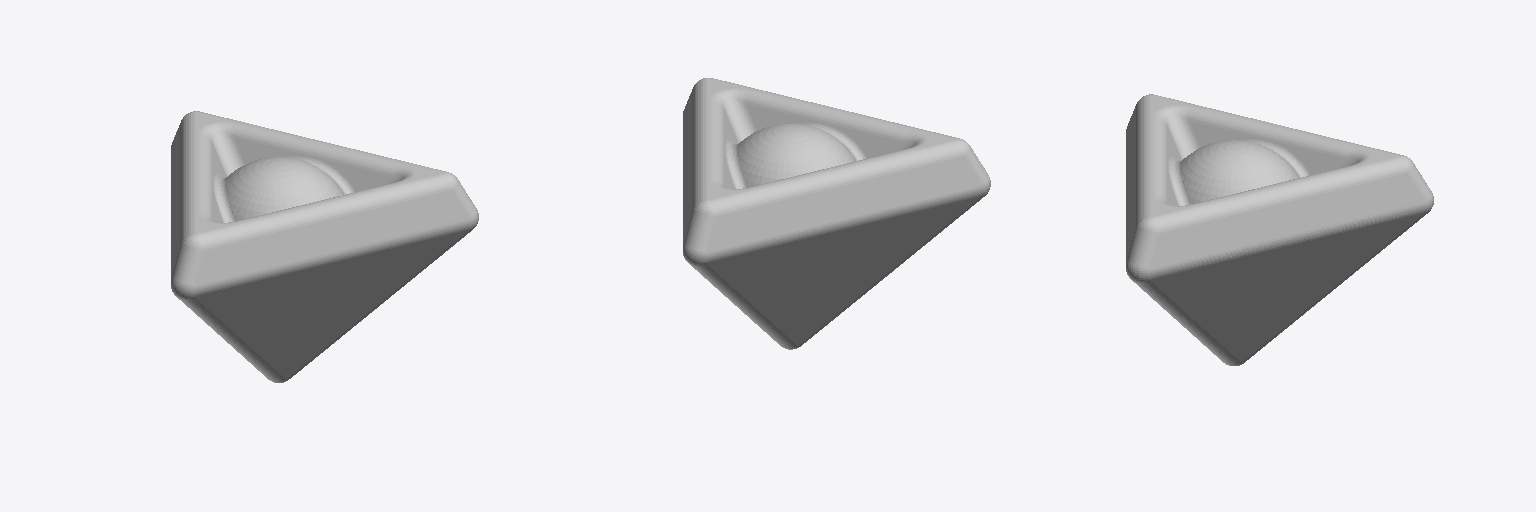
The model's file is at_gem.obj.
3 views of the same model, side by side, from view 1: azimuth 30°, elevation 25°; view 2: azimuth 150°, elevation 25°; view 3: azimuth 270°, elevation 25° (orthographic).
Size of the model in its own units: 42.49 by 29.12 by 37.35.